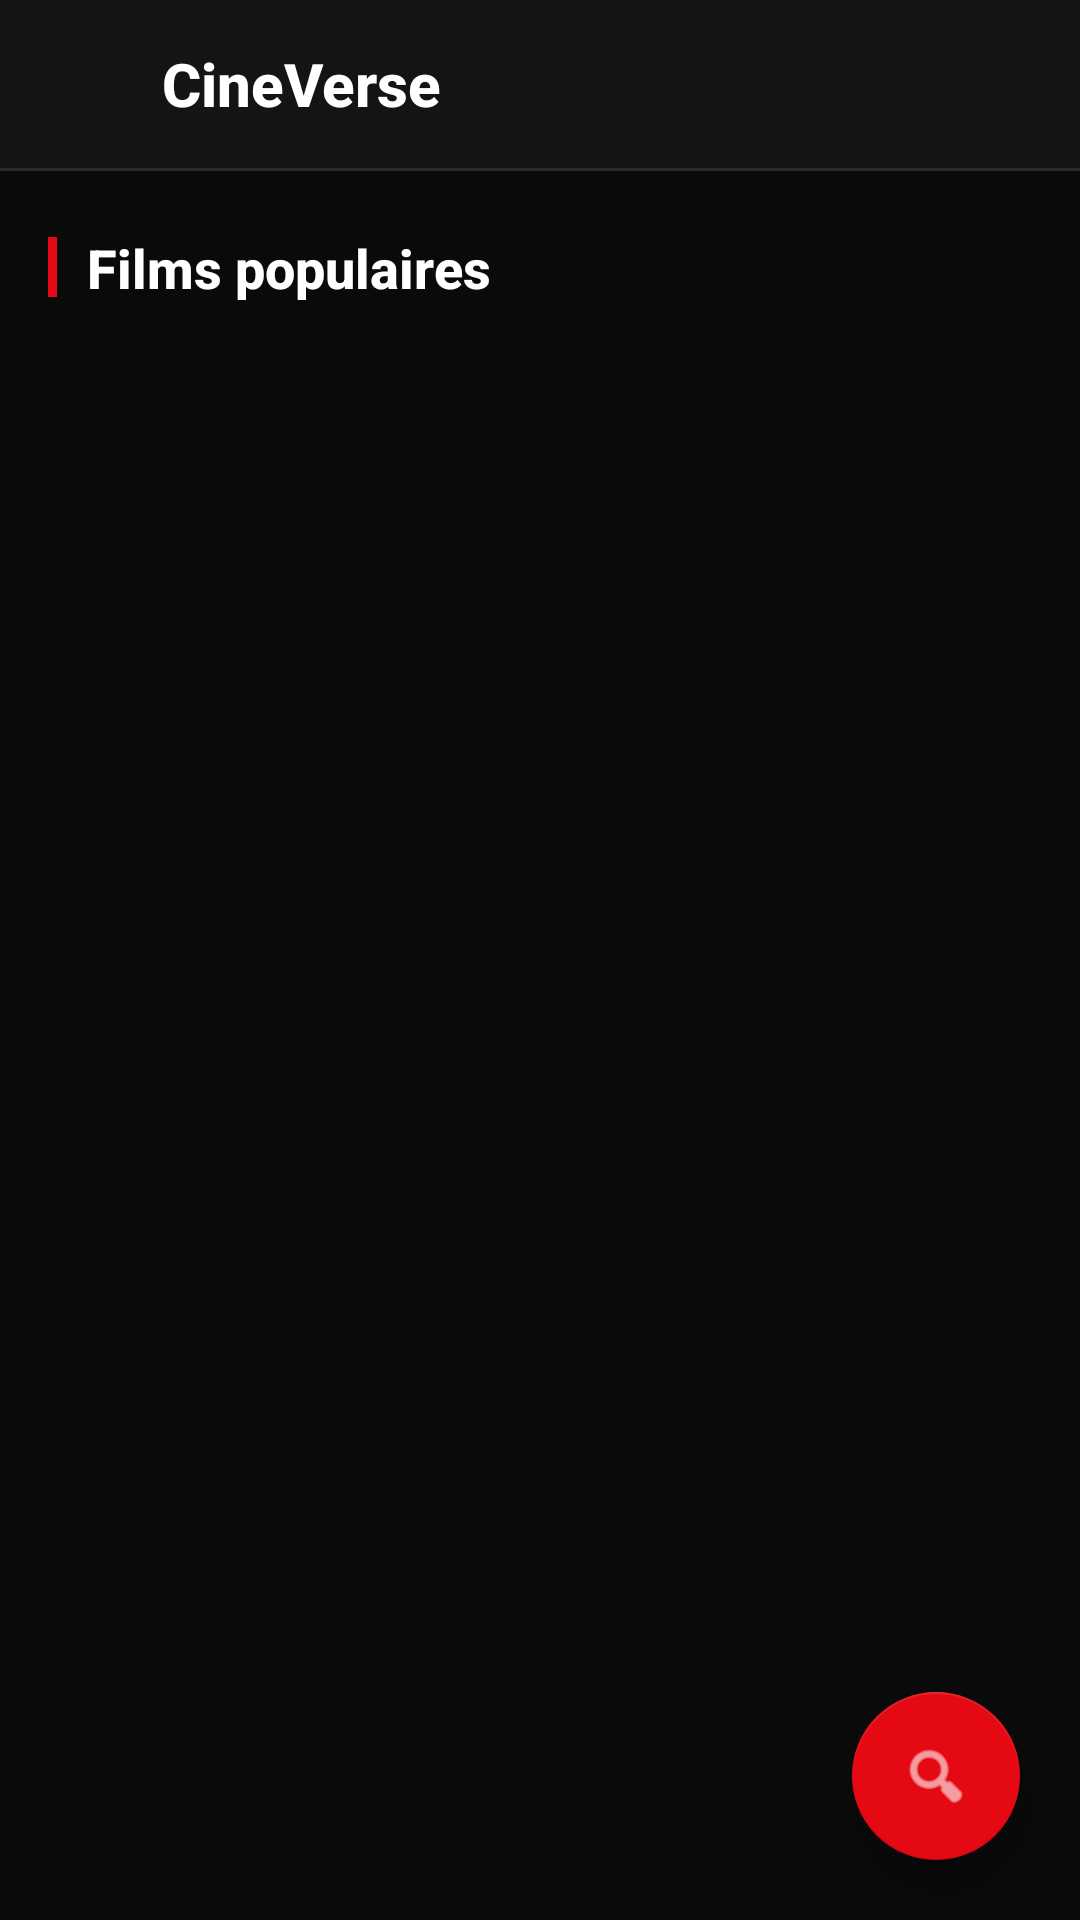

Where to tap for icons on this 1080px×1920px app screen, as (x,y):
Rechercher: (936,1776)
